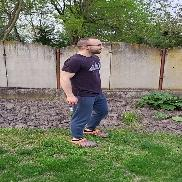lunges: (48, 31, 128, 151)
